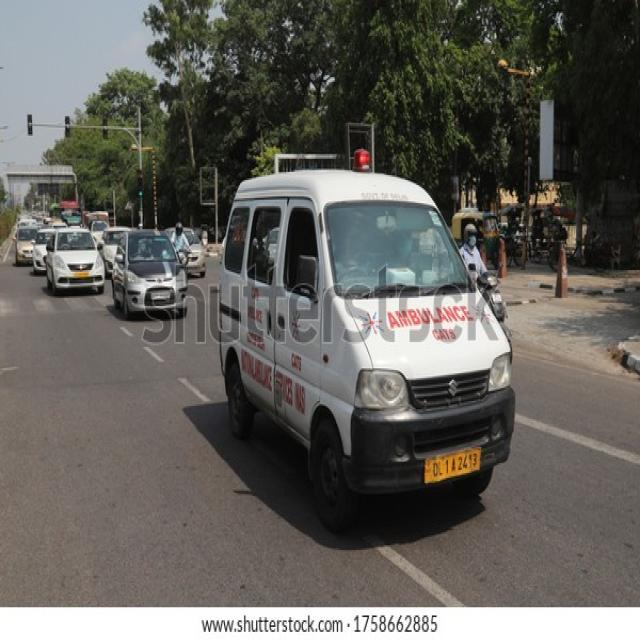ambulance: (217, 173, 525, 516)
